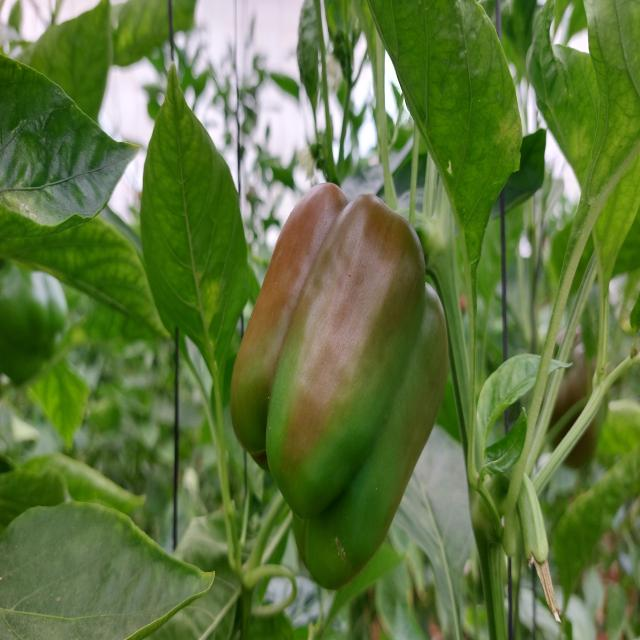BrownishRed--Can-be-Harvested: (235, 165, 454, 602)
